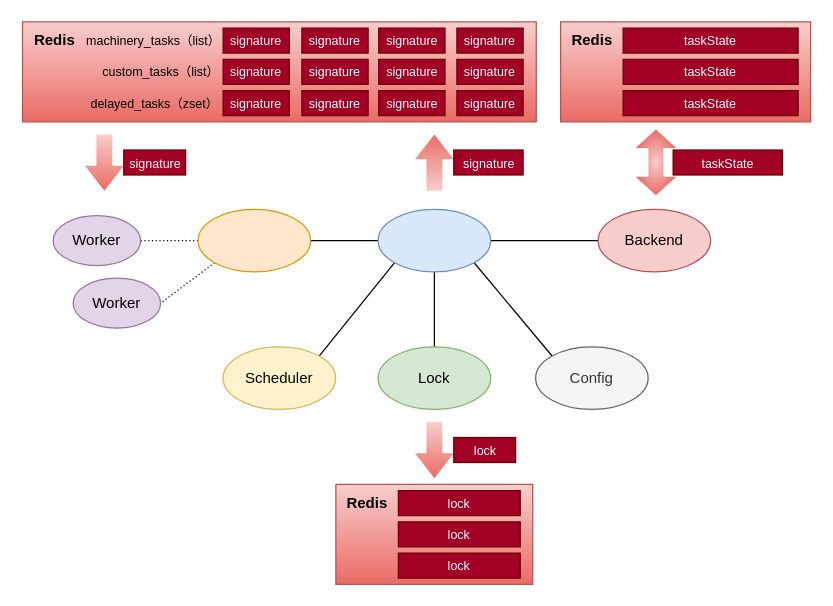
Some shapes in this 833 by 606 pixel diagram are drawn without their labels. The centre of each missing label's shape, as x and y in pixels:
"Broker" goes at [254,240].
"Server" goes at [434,240].
